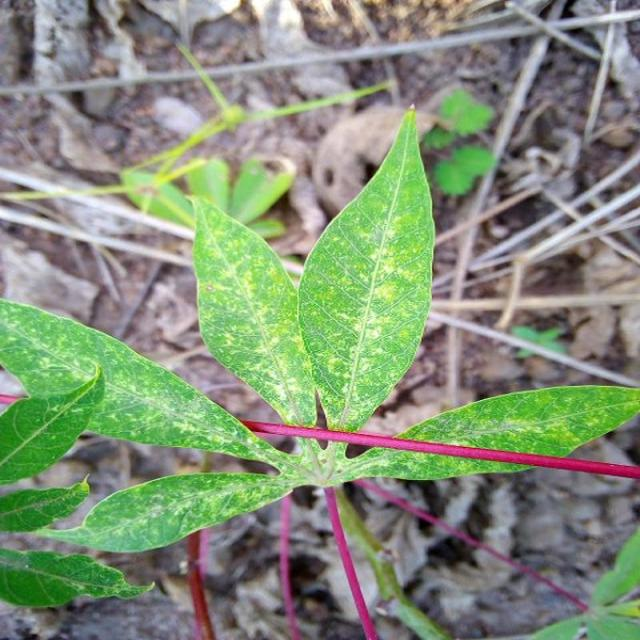cassava leaf: (296, 102, 436, 436), (187, 193, 318, 431)
